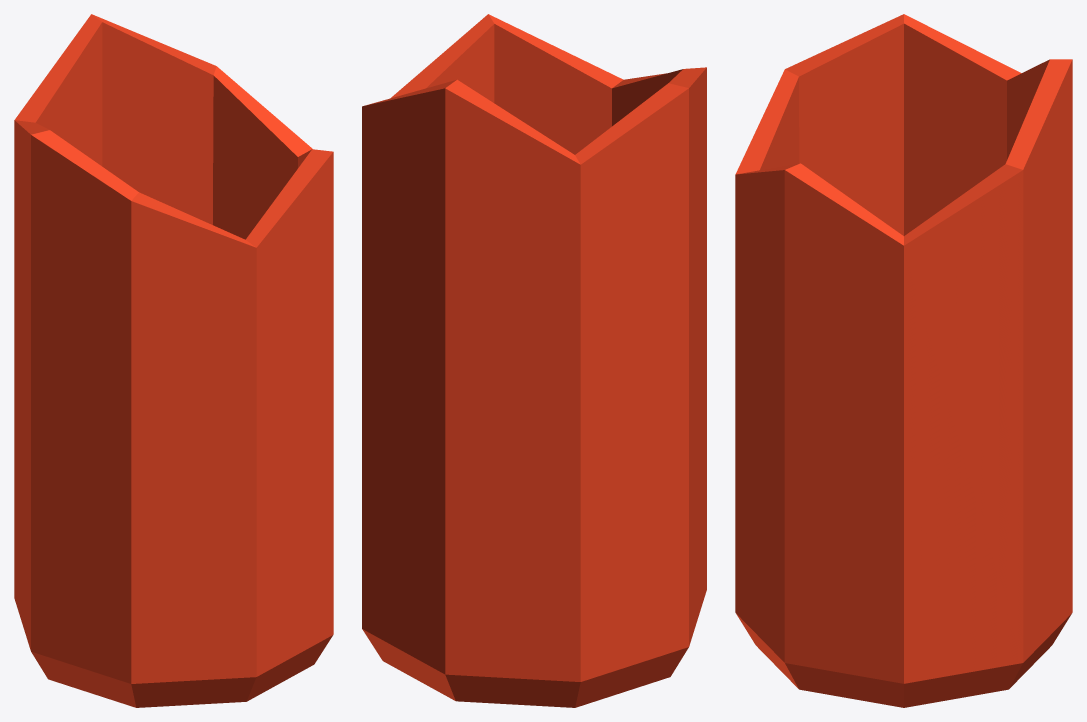
The model's file is SM_Vine_Broken_B_City.fbx.
3 renders of one model, left to right at view 1: azimuth 30°, elevation 25°; view 2: azimuth 150°, elevation 25°; view 3: azimuth 270°, elevation 25°, orthographic. The views are drawn at different scales.
Parts seen in each view (by area): view 1: SM_Vine_Broken_B_City; view 2: SM_Vine_Broken_B_City; view 3: SM_Vine_Broken_B_City.
Part boxes in pixels (x1,y1,x2,y2): SM_Vine_Broken_B_City: (14, 14, 333, 707); SM_Vine_Broken_B_City: (362, 14, 706, 707); SM_Vine_Broken_B_City: (735, 14, 1072, 707).
Bounding box in the file's own units: 0.0877 × 0.1682 × 0.0877.
